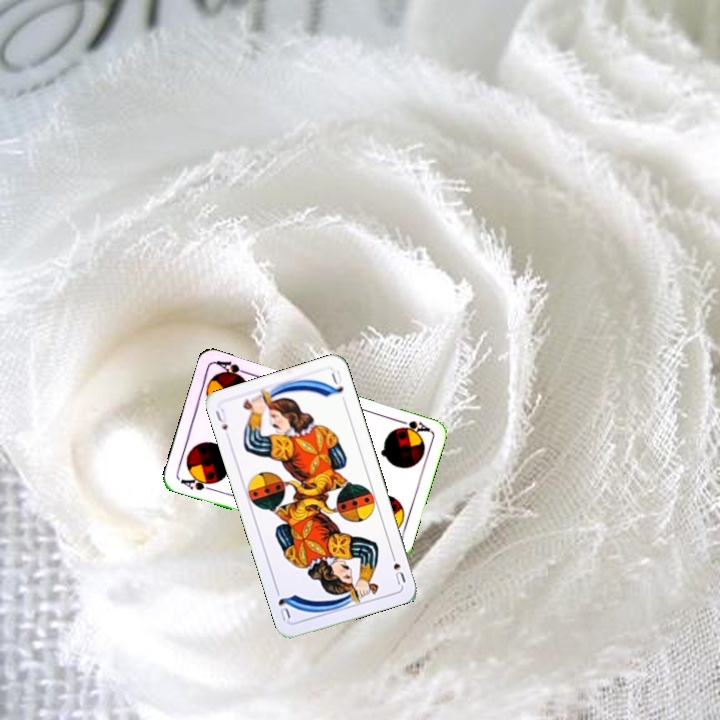SA: (176, 471, 218, 493), (392, 415, 432, 437)
SU: (387, 548, 408, 588), (211, 404, 230, 433)
